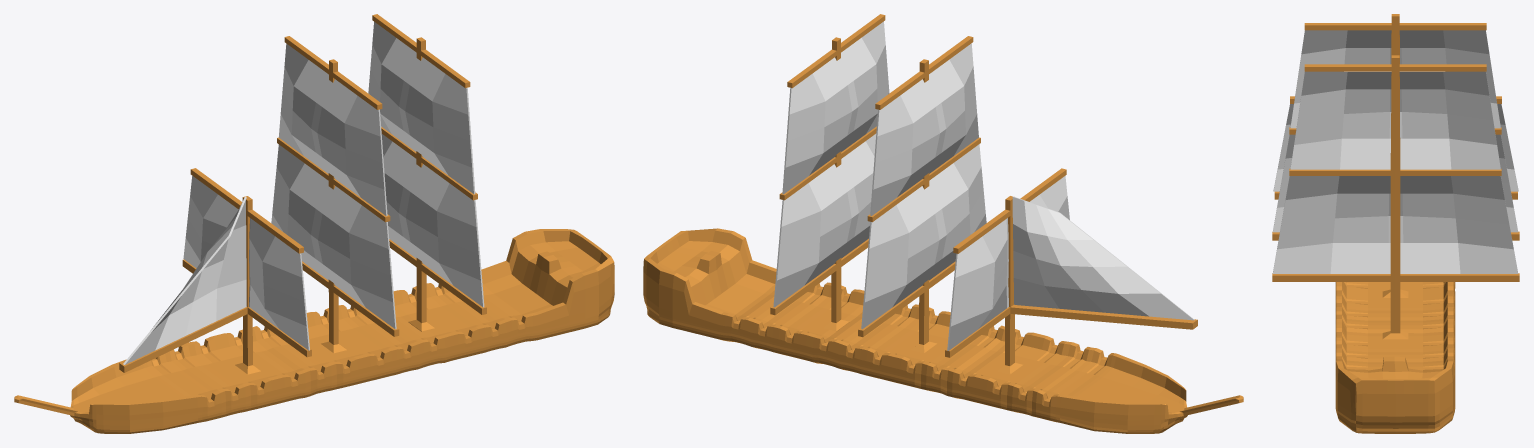
File: brig.glb
3 views of the same model, side by side, from view 1: azimuth 30°, elevation 25°; view 2: azimuth 150°, elevation 25°; view 3: azimuth 270°, elevation 25° (orthographic). The views are drawn at different scales.
Parts seen in each view (by area): view 1: Cube; view 2: Cube; view 3: Cube.
Part boxes in pixels (x1,y1,x2,y2): Cube: [14, 14, 614, 433]; Cube: [643, 14, 1243, 433]; Cube: [1272, 14, 1519, 433].
Size of the model in its own units: 43.23 by 22 by 16.29.
